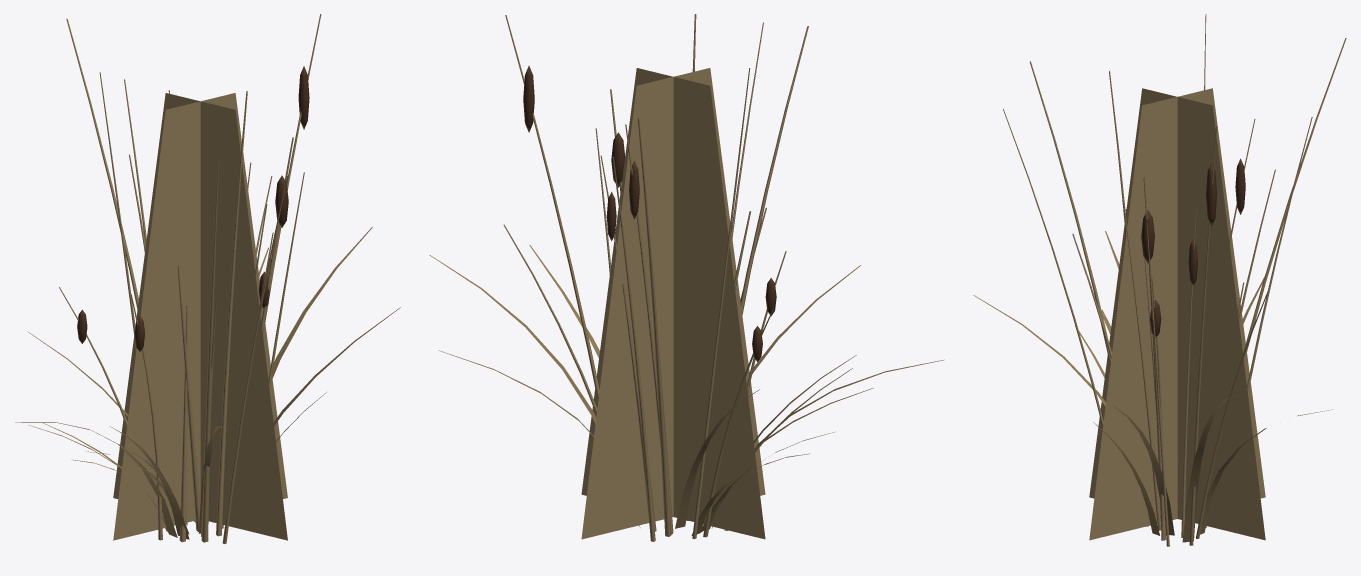
The model's file is reed_clump_2.glb.
The picture shows the model from 3 angles, left to right: view 1: azimuth 30°, elevation 25°; view 2: azimuth 150°, elevation 25°; view 3: azimuth 270°, elevation 25°; orthographic projection. The views are drawn at different scales.
Visible parts, largest first — view 1: ReedClump_Far, ReedClump_Stalks_2, ReedClump_Stalks_0, ReedClump_Stalks_1, ReedClump_Blades_1, ReedClump_Blades_0, ReedClump_Heads_0, ReedClump_Blades_2, ReedClump_Heads_1, ReedClump_Heads_2; view 2: ReedClump_Far, ReedClump_Stalks_0, ReedClump_Stalks_1, ReedClump_Stalks_2, ReedClump_Blades_0, ReedClump_Blades_1, ReedClump_Heads_2, ReedClump_Heads_0, ReedClump_Blades_2; view 3: ReedClump_Far, ReedClump_Stalks_2, ReedClump_Stalks_1, ReedClump_Stalks_0, ReedClump_Blades_1, ReedClump_Heads_2, ReedClump_Blades_2, ReedClump_Heads_0.
Part boxes in pixels (<box>): ReedClump_Far: <box>113,93,287,540</box>; ReedClump_Stalks_2: <box>168,90,293,543</box>; ReedClump_Stalks_0: <box>66,14,321,542</box>; ReedClump_Stalks_1: <box>59,79,304,531</box>; ReedClump_Blades_1: <box>132,227,372,539</box>; ReedClump_Blades_0: <box>15,331,187,537</box>; ReedClump_Heads_0: <box>134,66,309,351</box>; ReedClump_Blades_2: <box>71,307,400,534</box>; ReedClump_Heads_1: <box>77,271,269,343</box>; ReedClump_Heads_2: <box>275,175,288,227</box>; ReedClump_Far: <box>581,68,765,539</box>; ReedClump_Stalks_0: <box>505,15,786,539</box>; ReedClump_Stalks_1: <box>503,128,774,541</box>; ReedClump_Stalks_2: <box>600,14,808,454</box>; ReedClump_Blades_0: <box>675,355,944,535</box>; ReedClump_Blades_1: <box>429,255,860,527</box>; ReedClump_Heads_2: <box>606,132,639,241</box>; ReedClump_Heads_0: <box>523,65,776,316</box>; ReedClump_Blades_2: <box>529,245,873,529</box>; ReedClump_Far: <box>1089,88,1265,540</box>; ReedClump_Stalks_2: <box>1003,61,1255,539</box>; ReedClump_Stalks_1: <box>1125,117,1312,546</box>; ReedClump_Stalks_0: <box>1072,14,1346,545</box>; ReedClump_Blades_1: <box>973,295,1332,542</box>; ReedClump_Heads_2: <box>1141,158,1245,286</box>; ReedClump_Blades_2: <box>1093,309,1174,535</box>; ReedClump_Heads_0: <box>1206,162,1216,226</box>.
Size of what is drawn, in the model's own units: 1.7 by 1.77 by 1.28.
